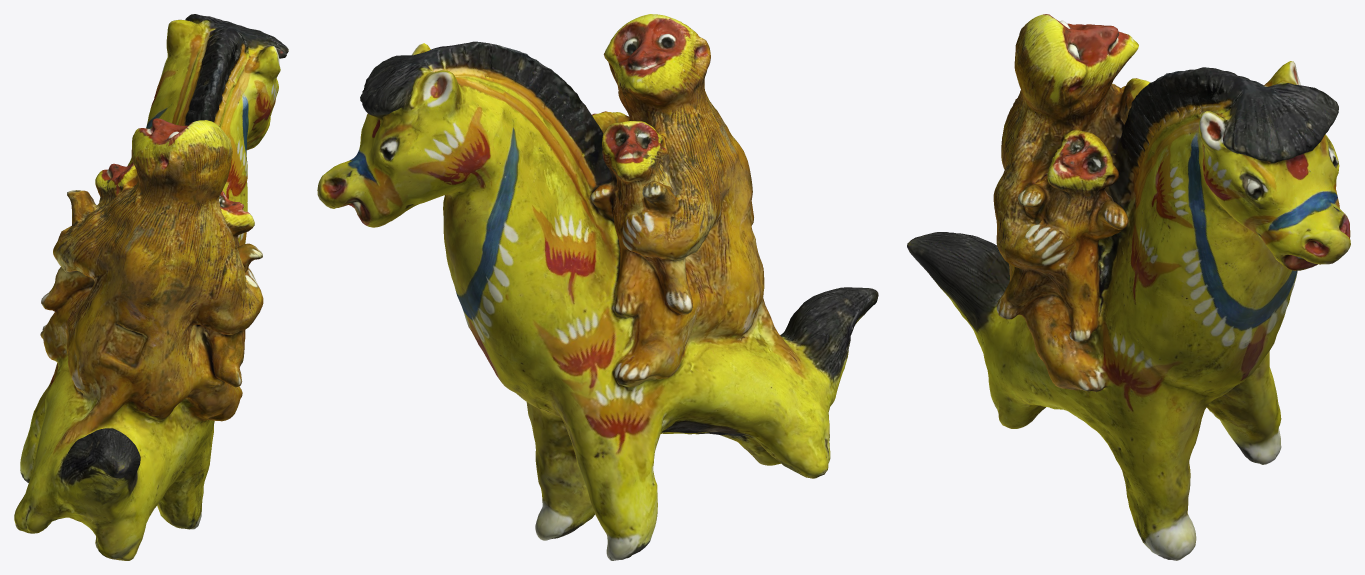
3 views of the same model, side by side, from view 1: azimuth 30°, elevation 25°; view 2: azimuth 150°, elevation 25°; view 3: azimuth 270°, elevation 25° (orthographic). The views are drawn at different scales.
Size of the model in its own units: 0.5846 by 0.7209 by 0.5589.
Materials: 1 (1 with a texture image).
